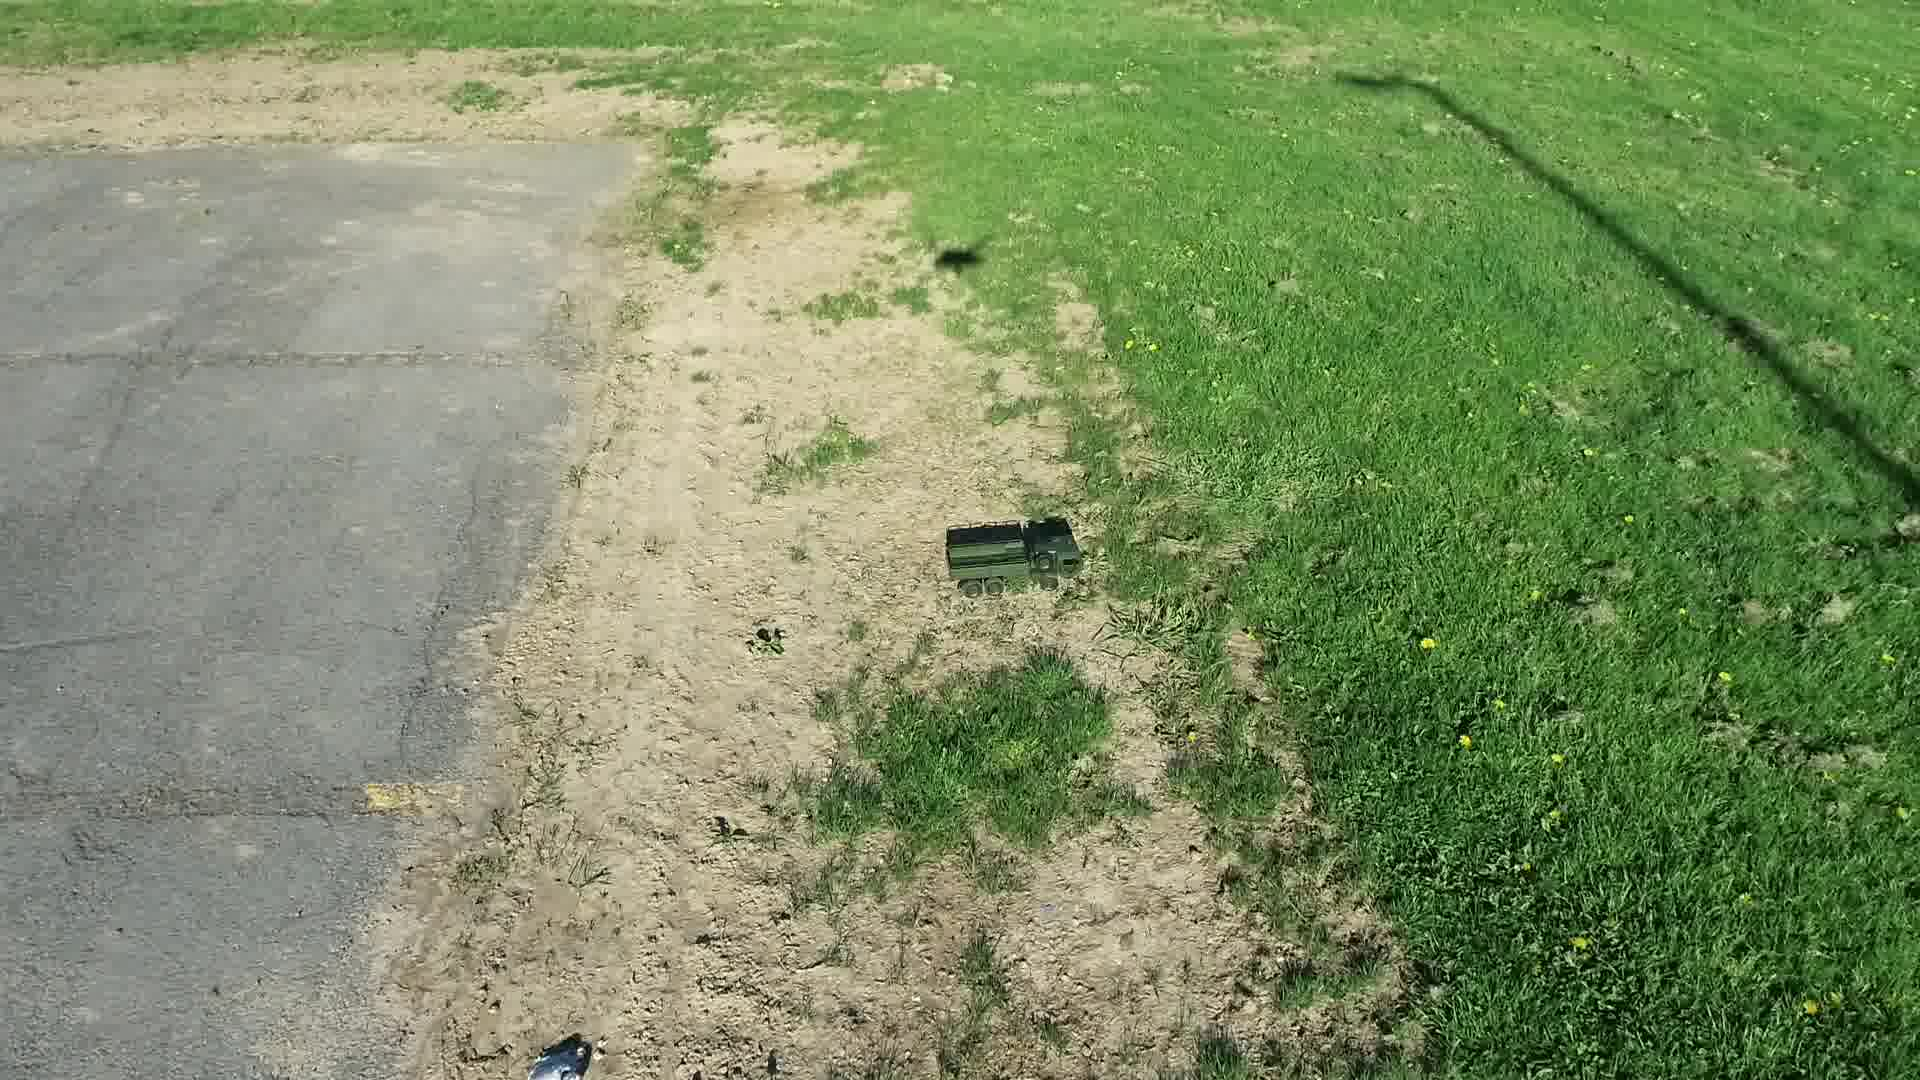transporter9: (939, 508, 1092, 601)
